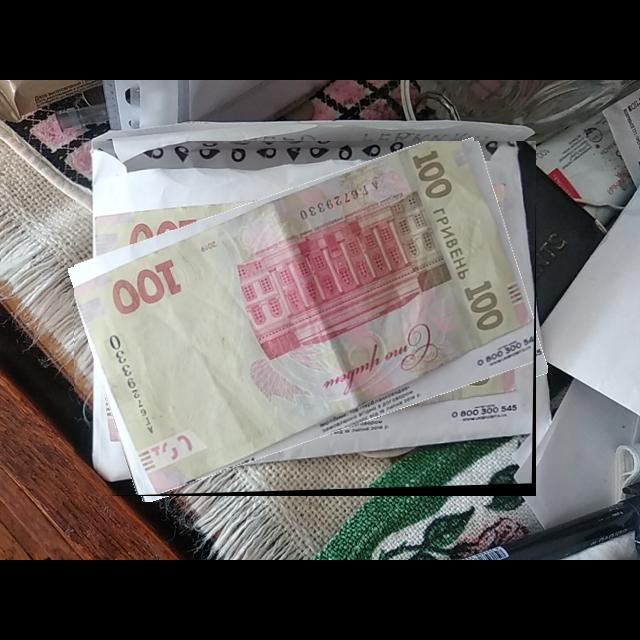100uah: (74, 141, 535, 495)
